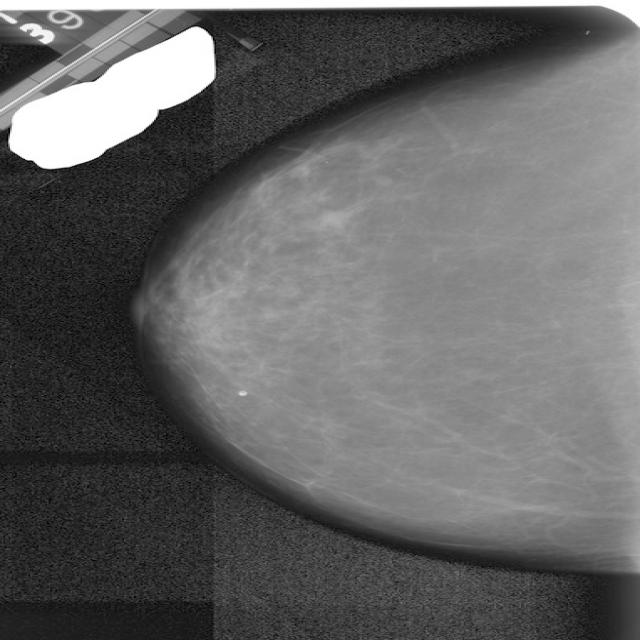tumour: (310, 207, 353, 229)
